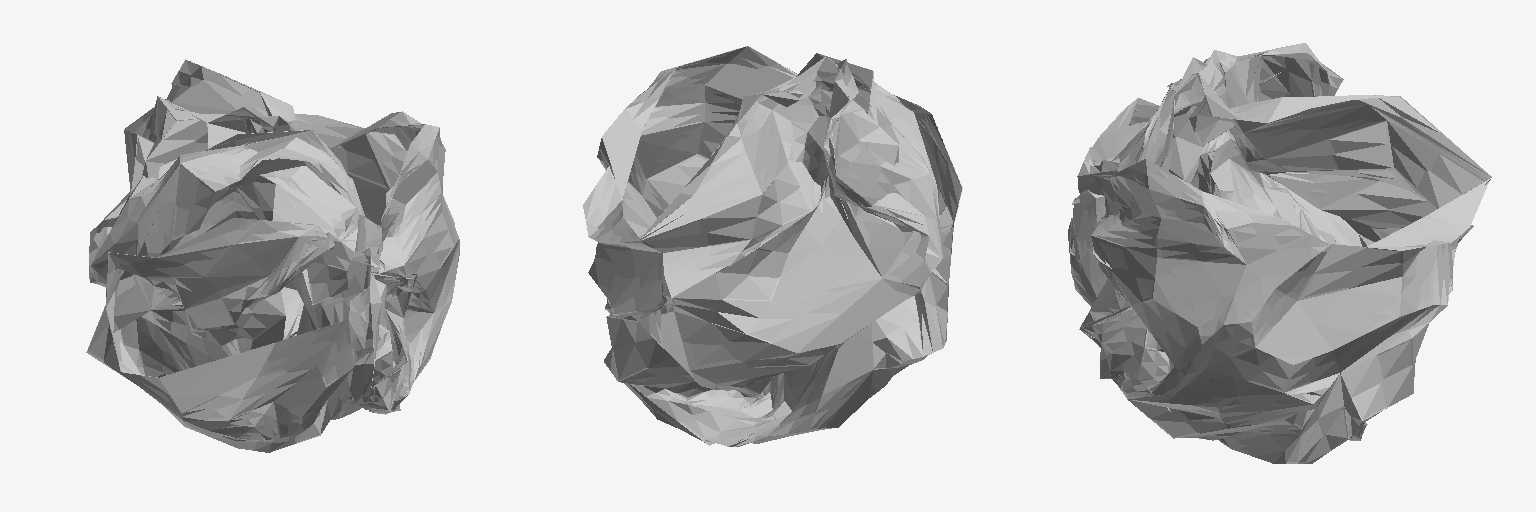
The model's file is boulette.obj.
3 renders of one model, left to right at view 1: azimuth 30°, elevation 25°; view 2: azimuth 150°, elevation 25°; view 3: azimuth 270°, elevation 25°, orthographic.
Visible parts, largest first — view 1: Paper_Mesh.715; view 2: Paper_Mesh.715; view 3: Paper_Mesh.715.
Boxes of the visible parts, x1=… form: Paper_Mesh.715: x1=86, y1=59, x2=459, y2=452; Paper_Mesh.715: x1=583, y1=46, x2=962, y2=446; Paper_Mesh.715: x1=1068, y1=43, x2=1491, y2=463.
Size of the model in its own units: 0.849 by 0.8662 by 0.9052.